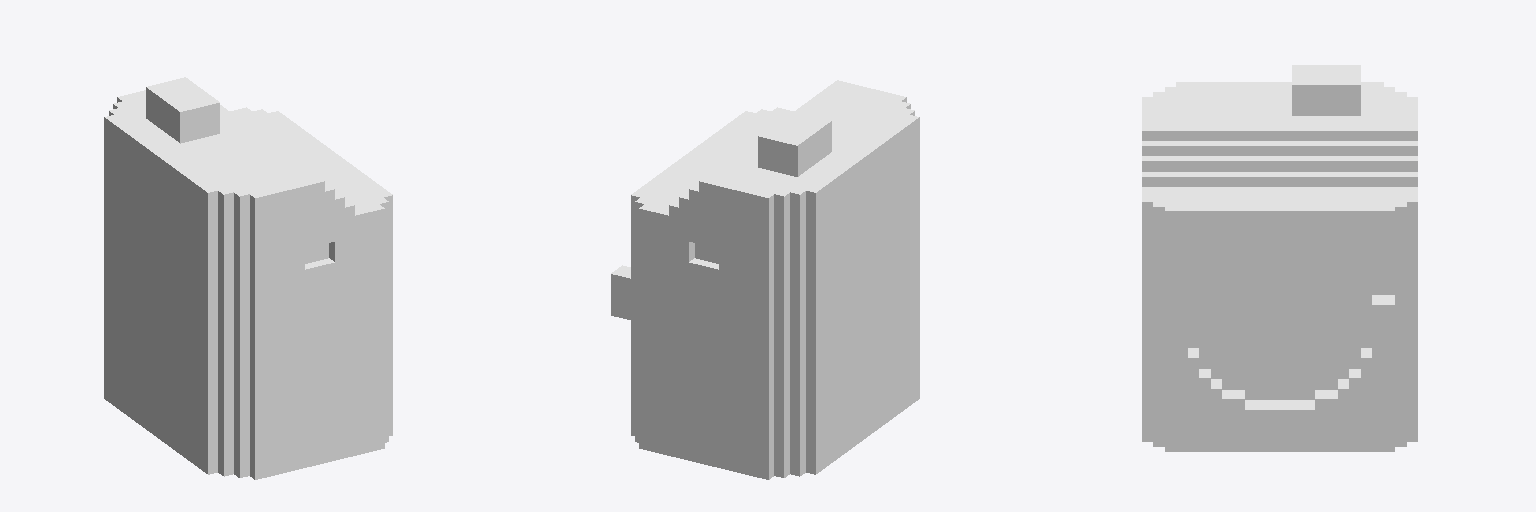
Rendered from alley_assets-10.obj.
3 views of the same model, side by side, from view 1: azimuth 30°, elevation 25°; view 2: azimuth 150°, elevation 25°; view 3: azimuth 270°, elevation 25° (orthographic).
Visible parts, largest first — view 1: object 1; view 2: object 1; view 3: object 1.
Part boxes in pixels (x1,y1,x2,y2): object 1: (104, 77, 392, 479); object 1: (611, 80, 919, 479); object 1: (1142, 65, 1417, 451).
Bounding box in the file's own units: 2 × 3 × 2.4.